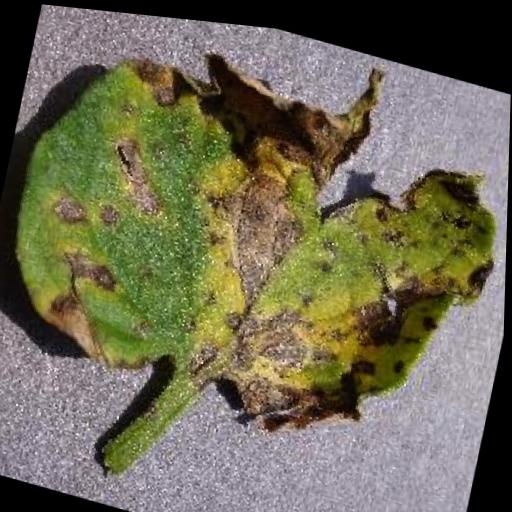Septoria: (0, 0, 512, 476)
